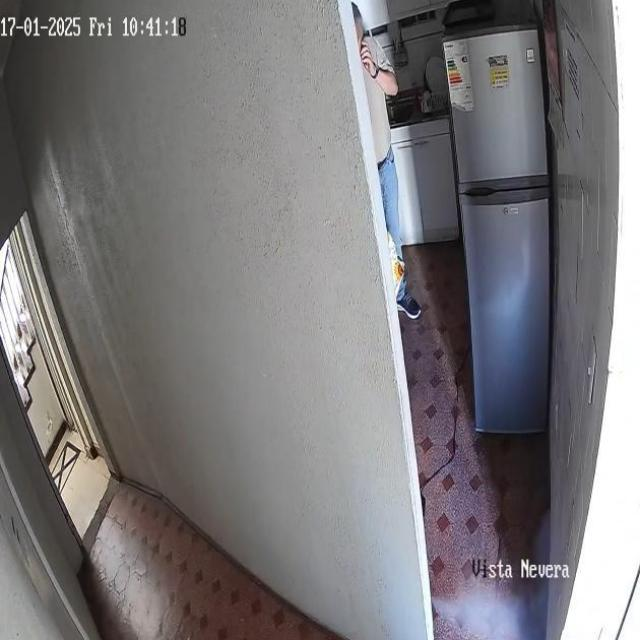fire: (430, 579, 560, 640)
